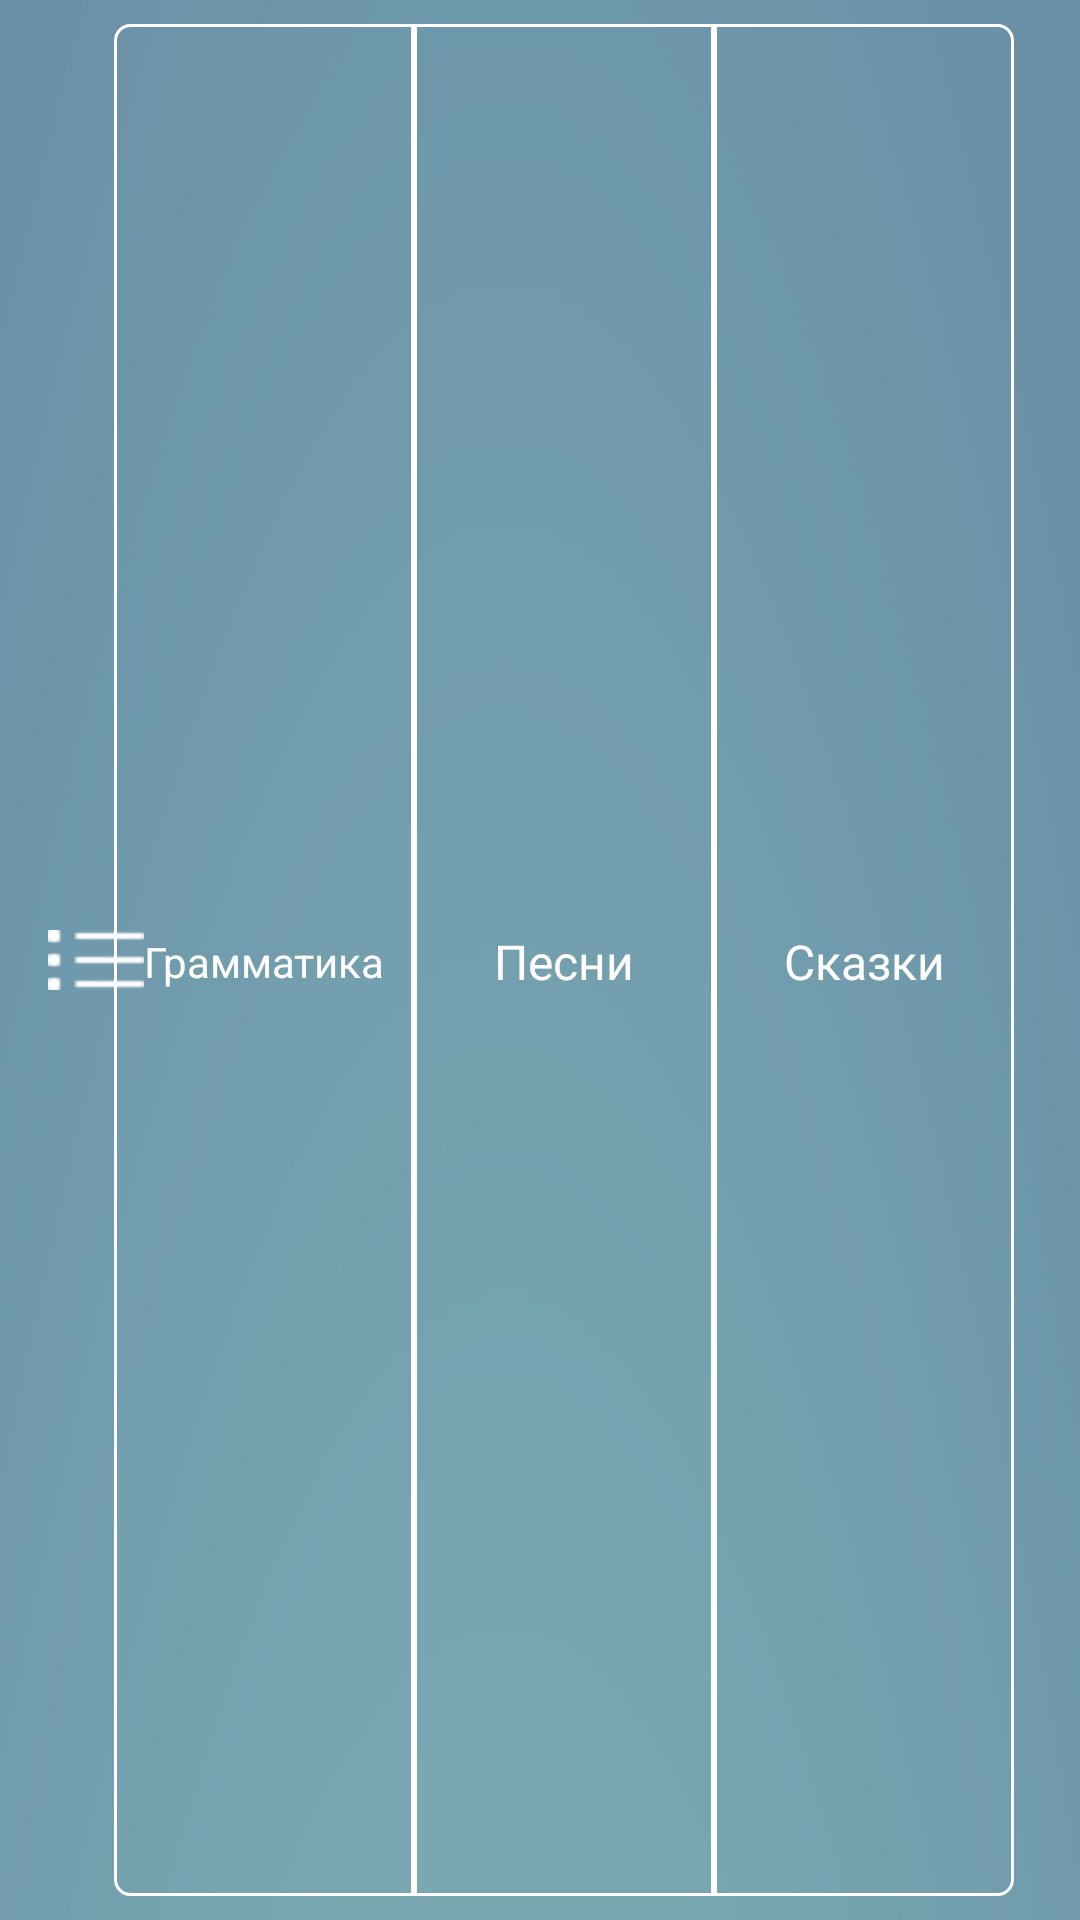

Named icons in this screenshot (1080w x 1920h) and their bounding boxes, (x1, y1, x2, y2):
menu: (48, 912, 144, 1008)
